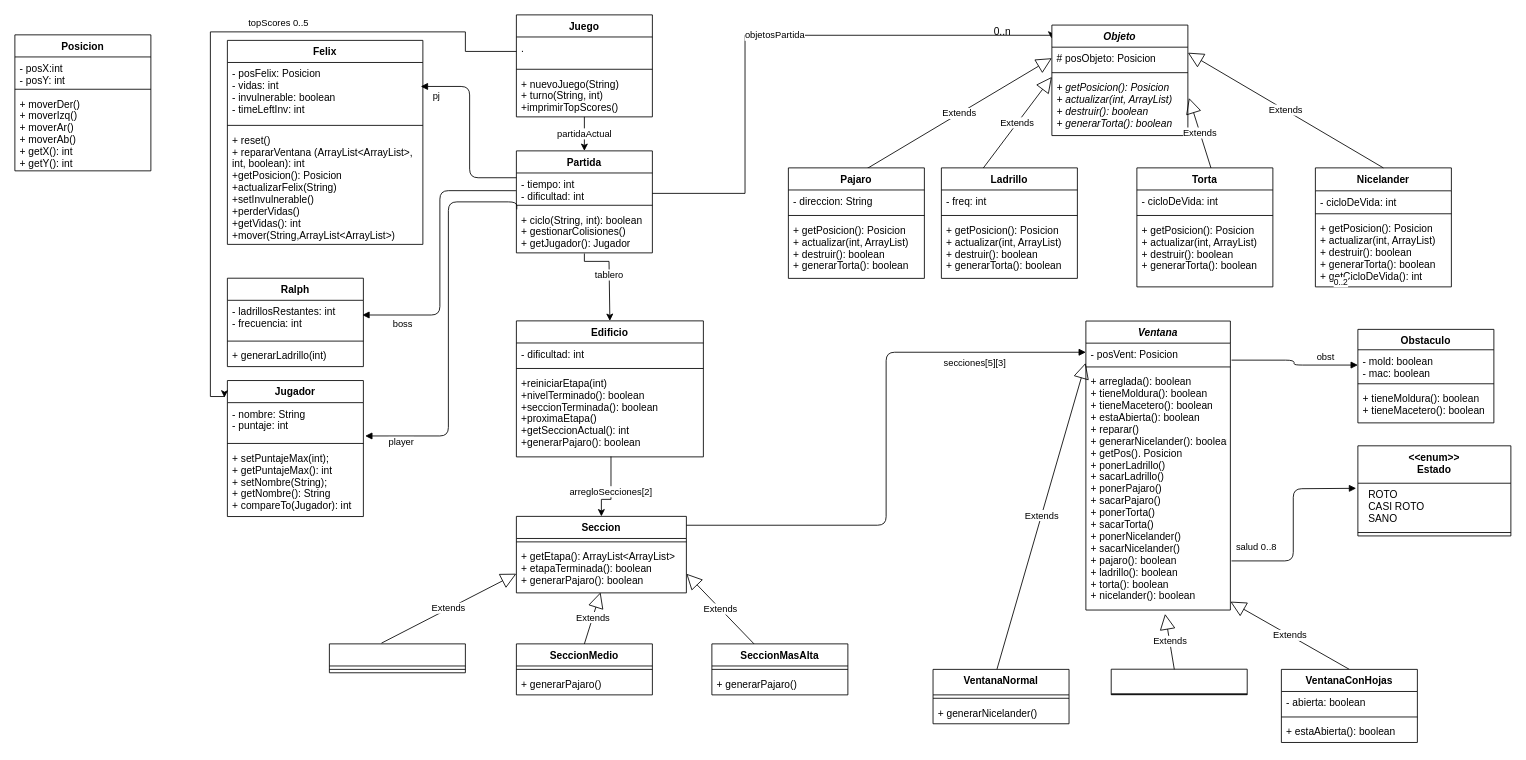
Image size: 1526x760. Some labels were removed from this diagram. Each missing label, with the centre of its shape:
"SeccionSuelo" belongs at point 397,658.
"VentanaSemicircular" belongs at point 1178,681.
